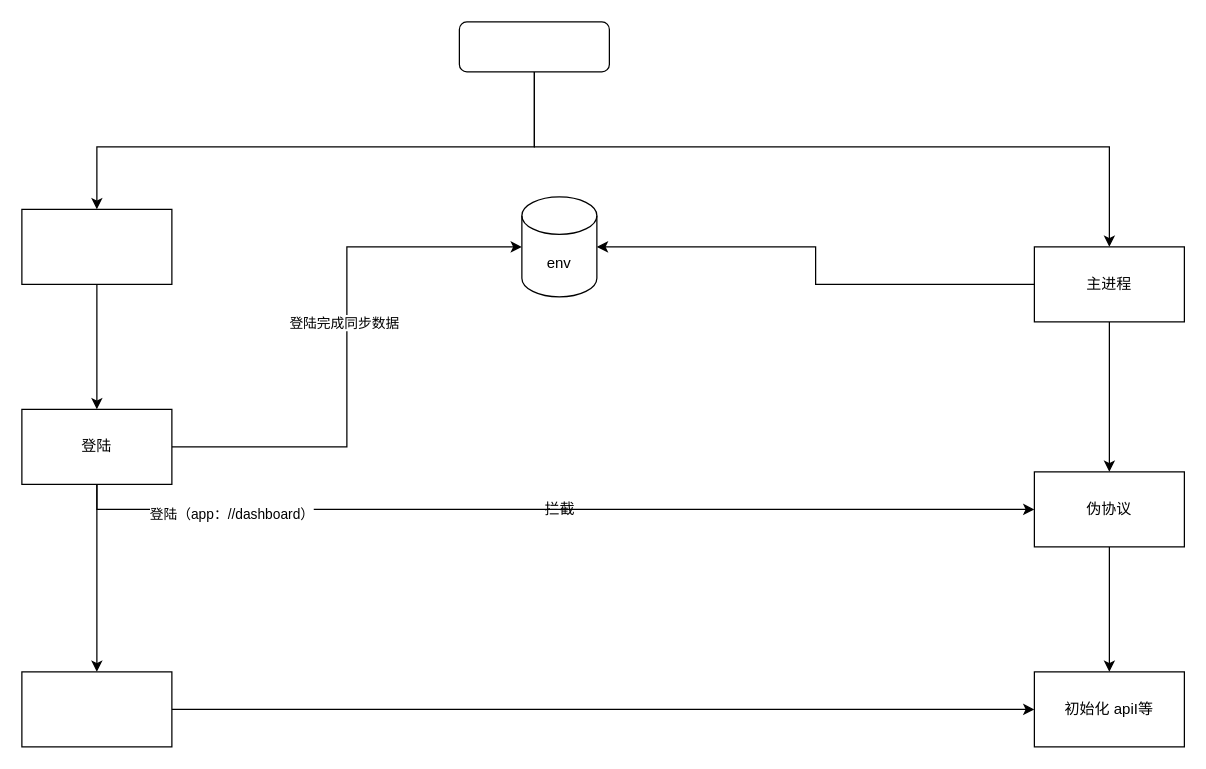
Some shapes in this 1206 by 769 pixel diagram are drawn without their labels. The centre of each missing label's shape, as x and y in pixels:
"启动" belongs at point 533,46.
"渲染进程" belongs at point 96,246.
"首页" belongs at point 96,709.
